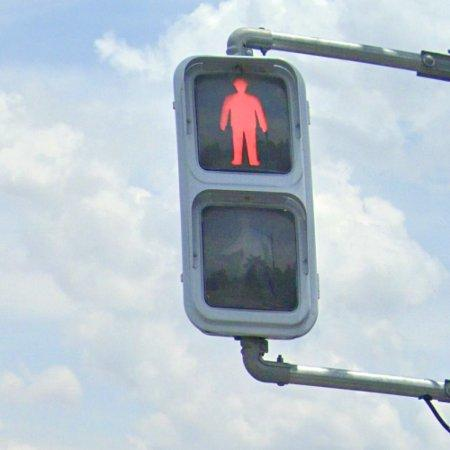traffic lights: (174, 58, 318, 339)
